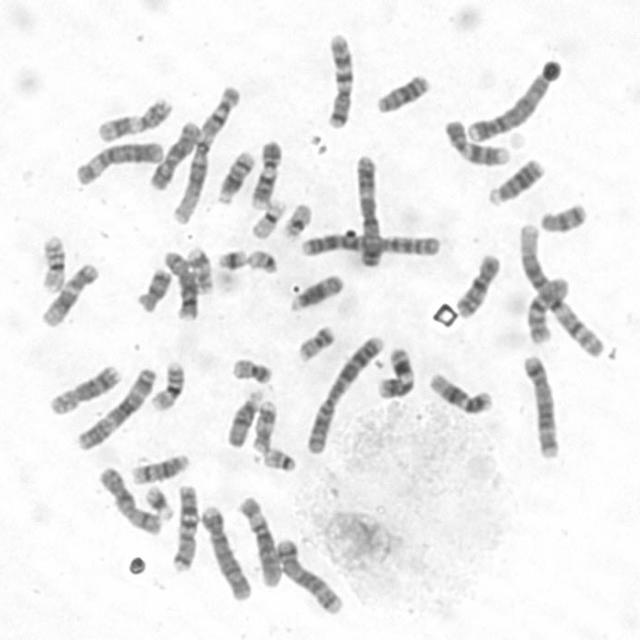A1: (517, 218, 606, 358), (169, 83, 242, 226)
A2: (302, 332, 386, 456), (296, 227, 443, 260)
A3: (74, 364, 158, 451), (352, 150, 382, 268)
B4: (463, 55, 564, 145), (198, 501, 254, 601)
B5: (274, 536, 345, 616), (520, 350, 562, 460)
C10: (450, 250, 502, 320), (523, 274, 571, 346)
C11: (93, 94, 174, 144), (374, 343, 416, 399)
C12: (38, 259, 100, 328), (426, 368, 494, 415)
C6: (72, 138, 165, 188), (234, 493, 282, 587)
C7: (322, 31, 356, 131), (168, 481, 200, 572)
C8: (45, 360, 124, 416), (160, 246, 200, 322)
C9: (441, 116, 511, 166), (247, 138, 283, 210)
D13: (484, 155, 546, 207), (372, 70, 430, 114)
D14: (214, 148, 256, 207), (126, 450, 192, 486)
D15: (224, 387, 264, 450), (286, 271, 345, 313)
E16: (147, 357, 187, 414), (36, 232, 68, 294)
E17: (249, 397, 279, 454), (185, 243, 215, 295)
E18: (133, 264, 173, 314), (537, 200, 589, 234)
F19: (248, 196, 288, 241), (280, 200, 313, 240)
F20: (294, 321, 337, 364), (227, 353, 275, 386)
G21: (142, 481, 175, 520), (214, 246, 248, 271)
G22: (259, 444, 299, 472), (246, 246, 280, 274)
X: (96, 464, 163, 536), (146, 118, 202, 193)
